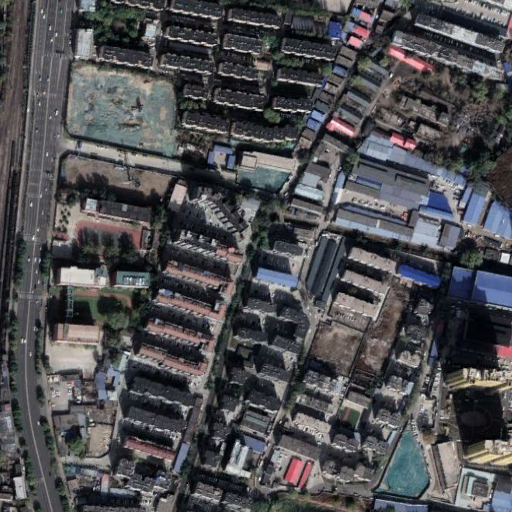cw: (67, 58, 177, 158), (373, 418, 429, 497), (236, 160, 291, 192)
